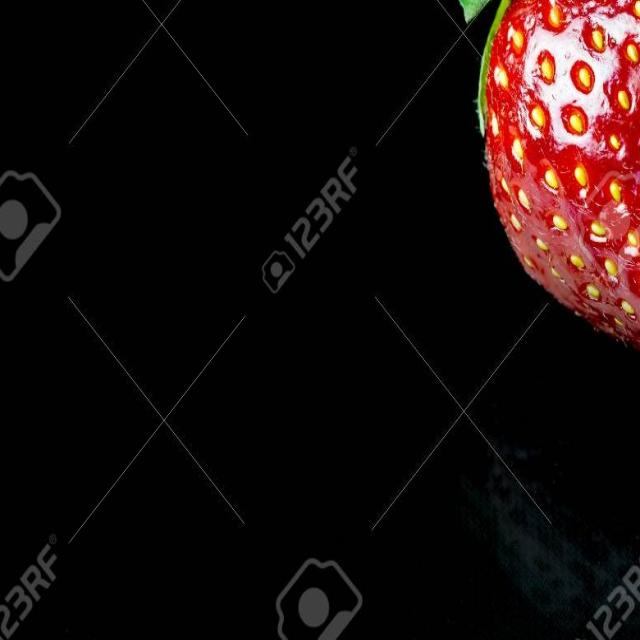strawberry: (465, 0, 640, 385)
